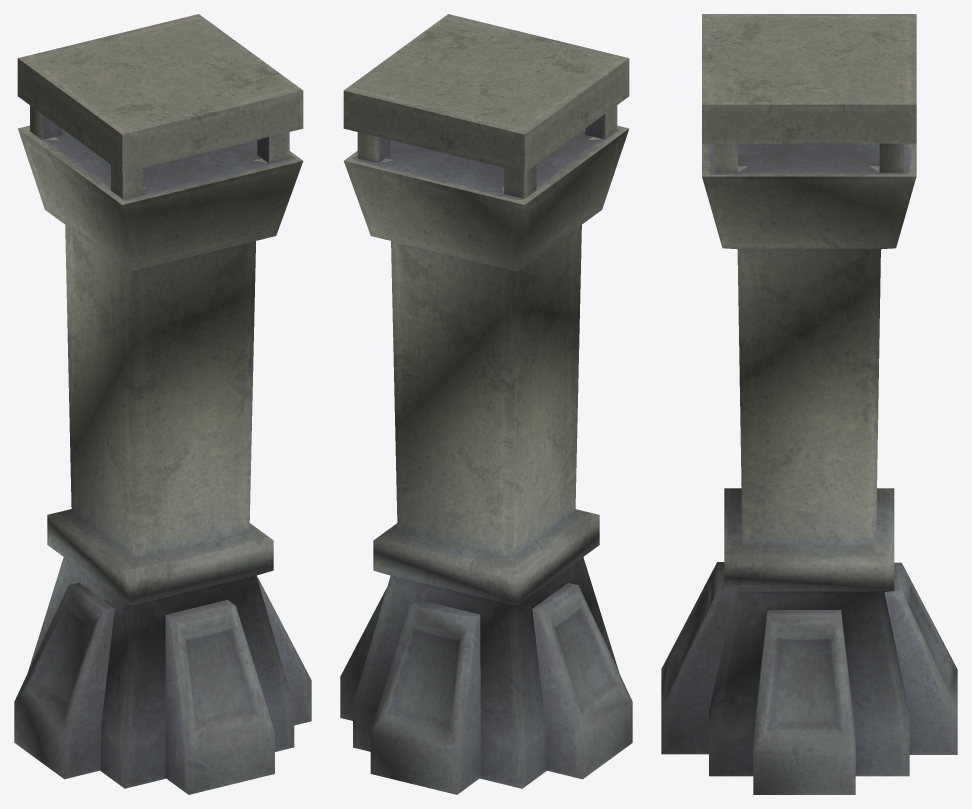
File: AD_Pillar_C_01.fbx
The picture shows the model from 3 angles, left to right: view 1: azimuth 30°, elevation 25°; view 2: azimuth 150°, elevation 25°; view 3: azimuth 270°, elevation 25°; orthographic projection. The views are drawn at different scales.
Visible parts, largest first — view 1: AD_Pillar_C_01; view 2: AD_Pillar_C_01; view 3: AD_Pillar_C_01.
Boxes of the visible parts, x1,y1,x2,y2 form: AD_Pillar_C_01: [14, 14, 311, 794]; AD_Pillar_C_01: [340, 14, 632, 794]; AD_Pillar_C_01: [661, 14, 957, 794].
Size of the model in its own units: 204 by 524 by 208.
1 material, 1 textured.
